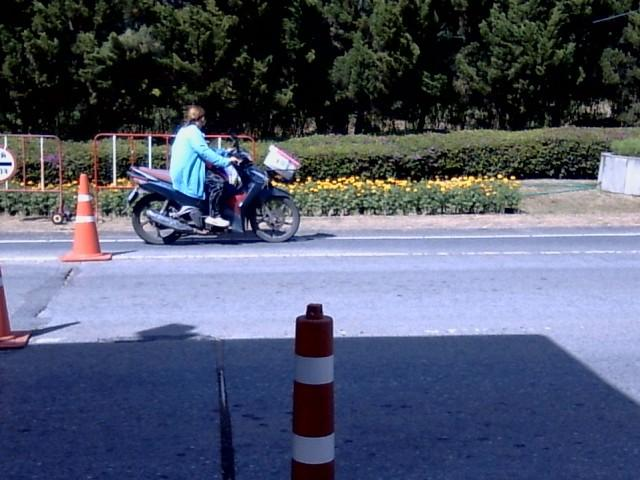motor: (127, 135, 300, 243)
no-helmet: (182, 103, 206, 129)
person: (169, 105, 239, 227)
